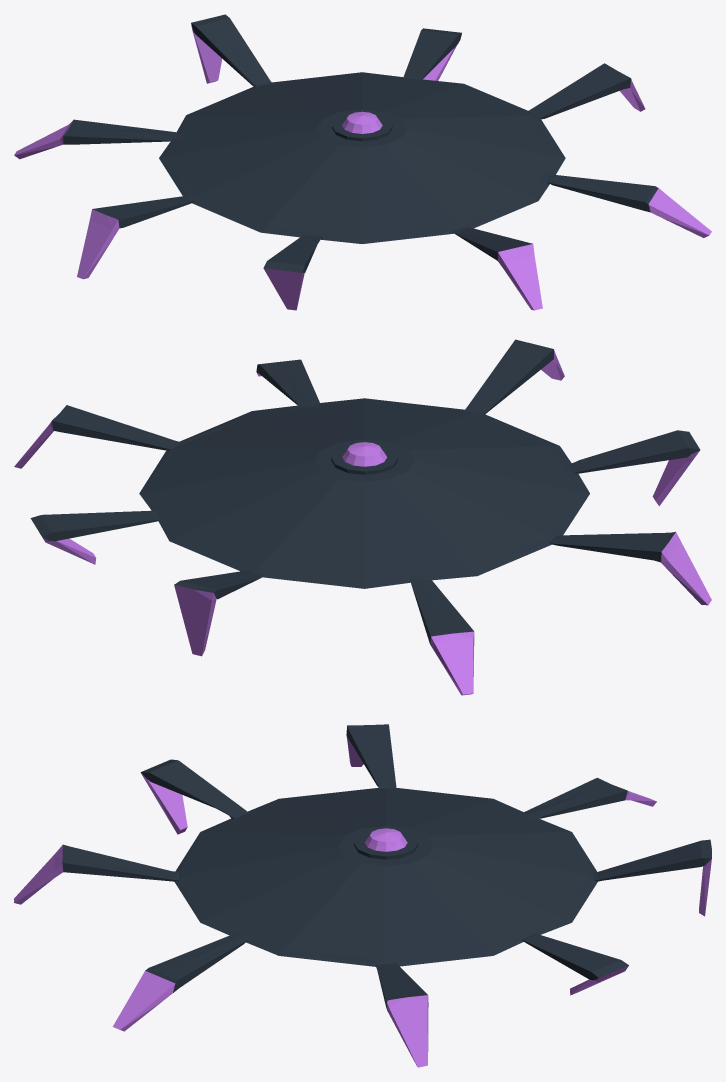
Rendered from Spider_Walk_000020.obj.
3 views of the same model, one above another, from view 1: azimuth 30°, elevation 25°; view 2: azimuth 150°, elevation 25°; view 3: azimuth 270°, elevation 25° (orthographic). The views are drawn at different scales.
Visible parts, largest first — view 1: Circle_Circle.001; view 2: Circle_Circle.001; view 3: Circle_Circle.001.
Part boxes in pixels (box(x1,y1,x2,y2)): Circle_Circle.001: box(14, 14, 711, 310); Circle_Circle.001: box(14, 339, 711, 695); Circle_Circle.001: box(14, 724, 711, 1067).
Size of the model in its own units: 3.38 by 0.4472 by 3.25.
